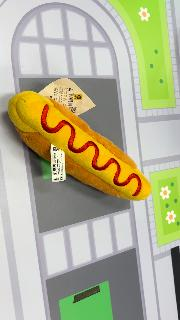hotdog: (7, 90, 152, 202)
